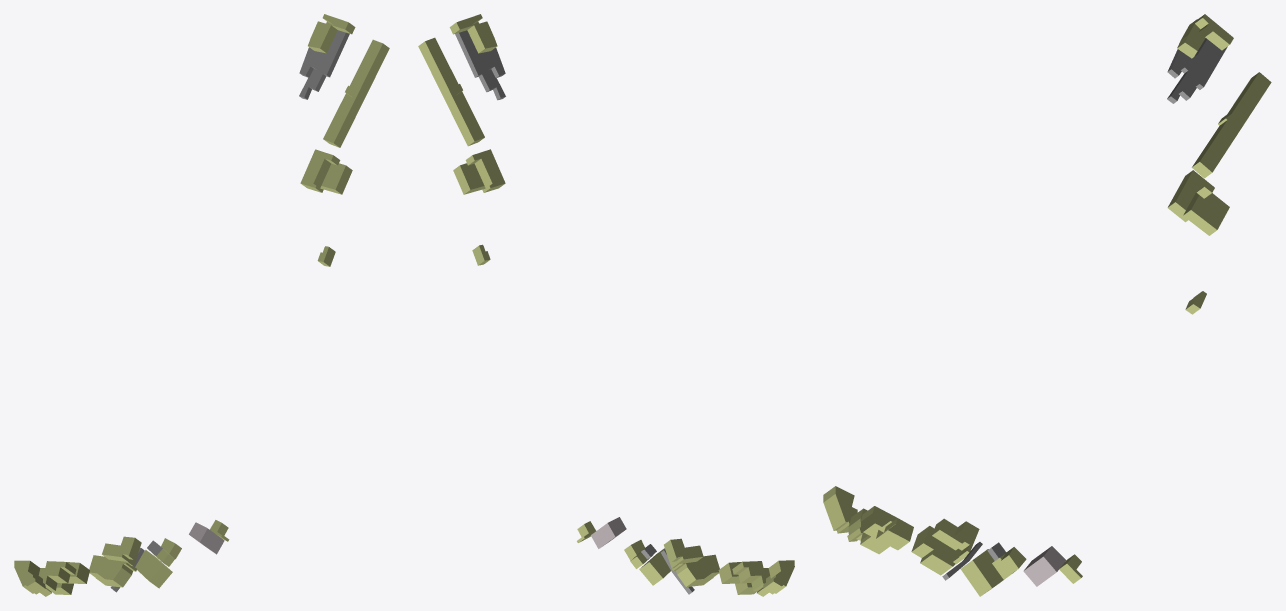
3 renders of one model, left to right at view 1: azimuth 30°, elevation 25°; view 2: azimuth 150°, elevation 25°; view 3: azimuth 330°, elevation 25°, orthographic. The views are drawn at different scales.
Parts seen in each view (by area): view 1: 0_1_0_0_2_1; view 2: 0_1_0_0_2_1; view 3: 0_1_0_0_2_1.
Part boxes in pixels (x1,y1,x2,y2): 0_1_0_0_2_1: [14, 14, 389, 596]; 0_1_0_0_2_1: [418, 14, 794, 596]; 0_1_0_0_2_1: [823, 14, 1271, 596].
Size of the model in its own units: 188 by 256 by 15.1.
